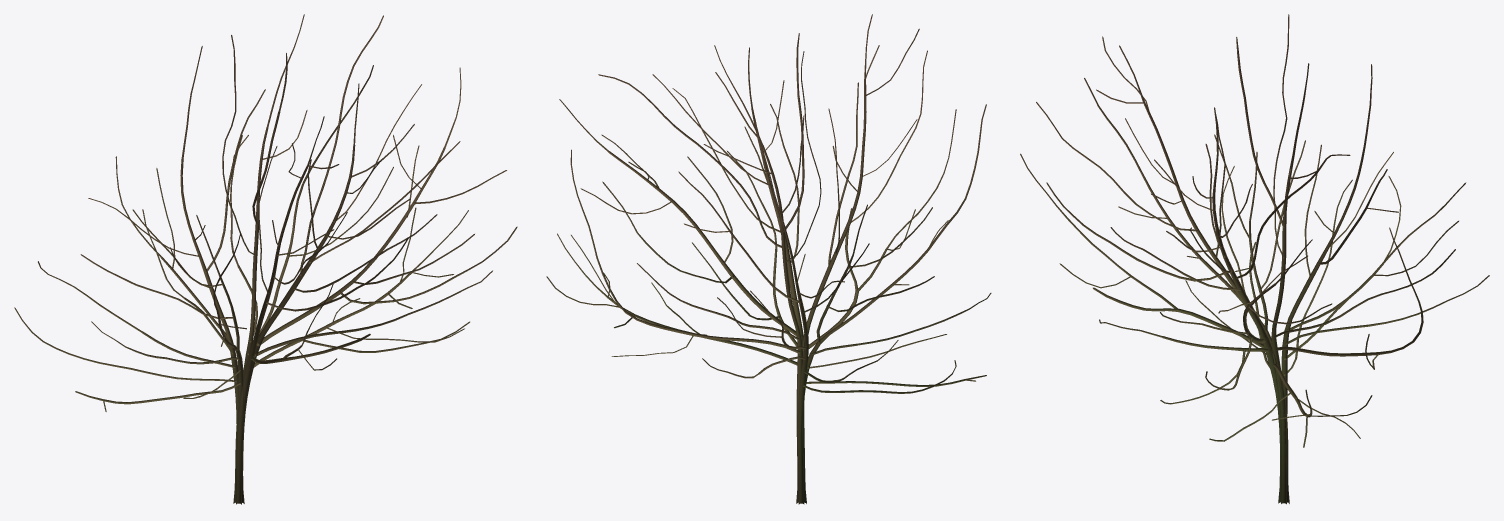
The model's file is SM_Tree_hazel_1_bare.glb.
3 views of the same model, side by side, from view 1: azimuth 30°, elevation 25°; view 2: azimuth 150°, elevation 25°; view 3: azimuth 270°, elevation 25° (orthographic). The views are drawn at different scales.
Parts seen in each view (by area): view 1: SM_Tree_hazel_1_bare; view 2: SM_Tree_hazel_1_bare; view 3: SM_Tree_hazel_1_bare.
Boxes of the visible parts, left/top/right/bottom form: SM_Tree_hazel_1_bare: left=14, top=14, right=517, bottom=504; SM_Tree_hazel_1_bare: left=546, top=14, right=991, bottom=504; SM_Tree_hazel_1_bare: left=1020, top=14, right=1489, bottom=504.
Size of the model in its own units: 5.28 by 5.47 by 4.77.
